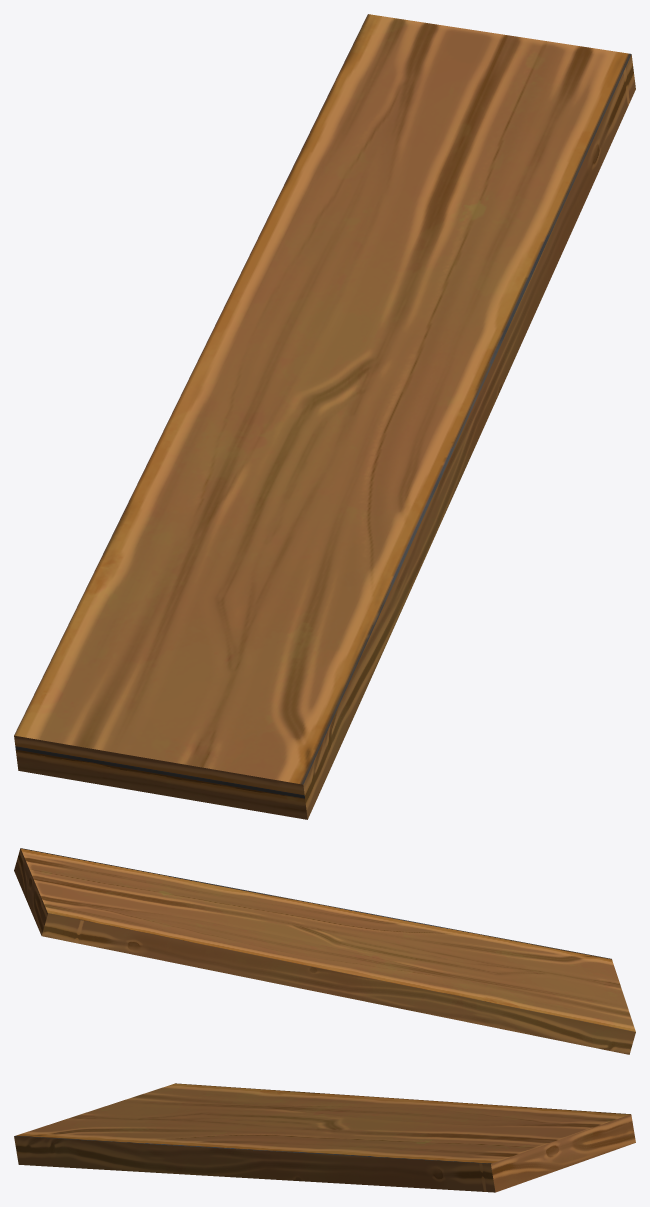
3 renders of one model, top to bottom at view 1: azimuth 30°, elevation 25°; view 2: azimuth 150°, elevation 25°; view 3: azimuth 270°, elevation 25°, orthographic. The views are drawn at different scales.
Parts seen in each view (by area): view 1: Cube.653; view 2: Cube.653; view 3: Cube.653.
Part boxes in pixels (<box>): Cube.653: <box>14,14,635,819</box>; Cube.653: <box>14,848,635,1054</box>; Cube.653: <box>14,1083,635,1192</box>.
Bounding box in the file's own units: 291 × 108 × 276.
1 material, 1 textured.
